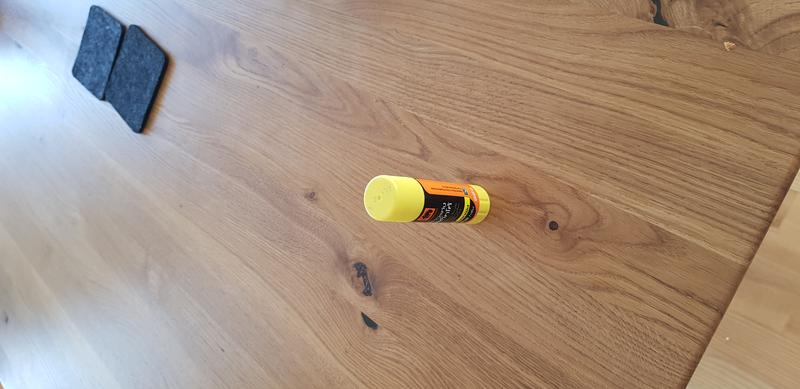Glue-Stick: (356, 171, 498, 227)
